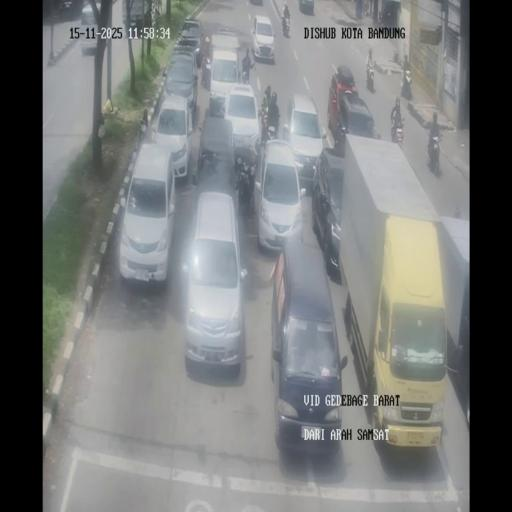3: (335, 137, 458, 448)
car: (270, 239, 343, 453), (183, 193, 248, 372), (119, 142, 175, 283), (314, 147, 346, 275), (282, 92, 326, 185), (152, 94, 194, 180), (194, 113, 237, 190), (335, 92, 377, 154), (207, 45, 242, 117), (175, 18, 206, 66), (250, 13, 275, 61), (123, 1, 156, 35), (79, 3, 98, 55)
truck: (236, 160, 254, 209), (426, 131, 442, 172), (256, 130, 268, 183), (390, 113, 404, 147), (262, 113, 278, 142), (200, 54, 212, 90), (401, 66, 412, 99), (260, 97, 269, 121), (366, 66, 374, 92), (370, 119, 380, 139), (282, 14, 290, 36), (241, 68, 250, 84), (362, 0, 369, 17), (378, 9, 383, 23)
